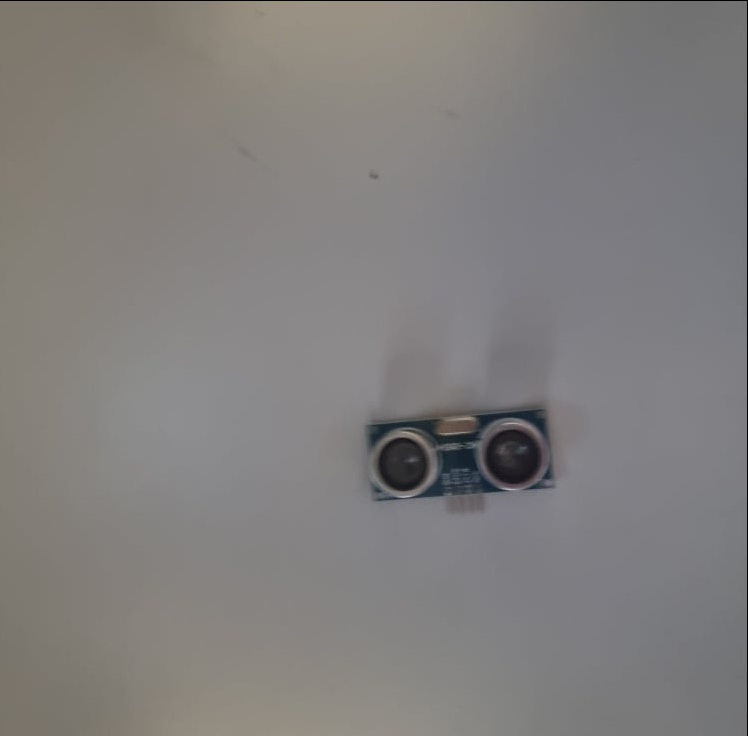SENSOR: (366, 402, 558, 514)
